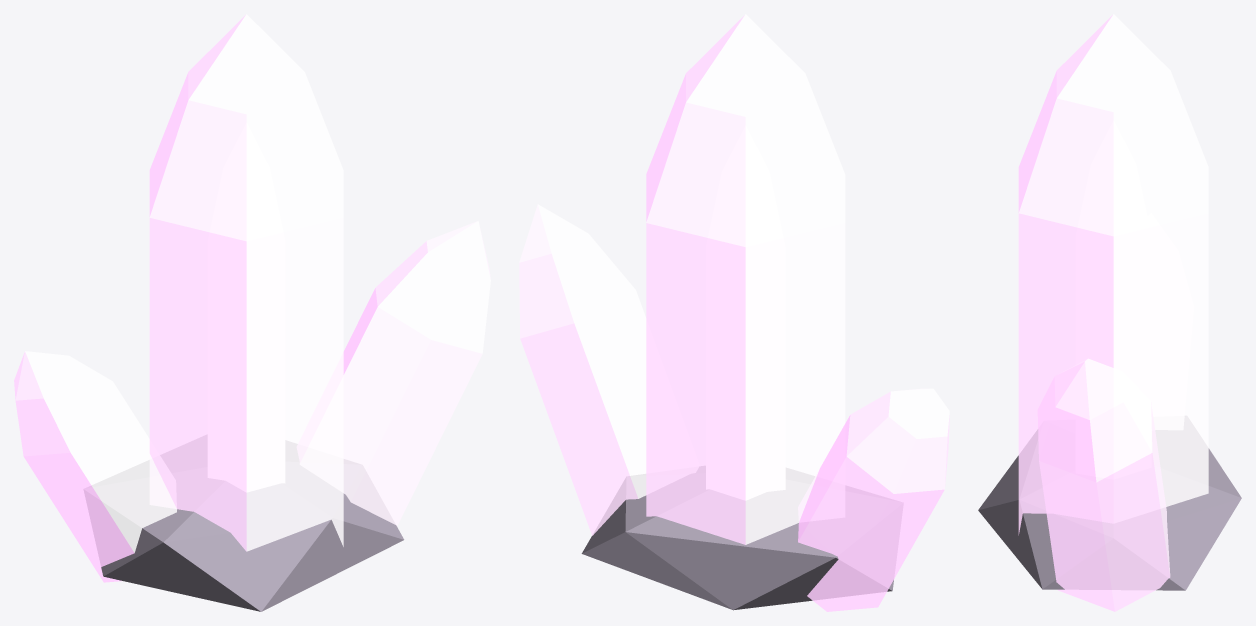
File: crystal.glb
The picture shows the model from 3 angles, left to right: view 1: azimuth 30°, elevation 25°; view 2: azimuth 150°, elevation 25°; view 3: azimuth 270°, elevation 25°; orthographic projection. The views are drawn at different scales.
Parts seen in each view (by area): view 1: crystal; view 2: crystal; view 3: crystal.
Boxes of the visible parts, x1,y1,x2,y2 form: crystal: (14,14,490,611); crystal: (519,14,949,611); crystal: (978,14,1241,611).
Bounding box in the file's own units: 0.3438 × 0.4139 × 0.1806.
